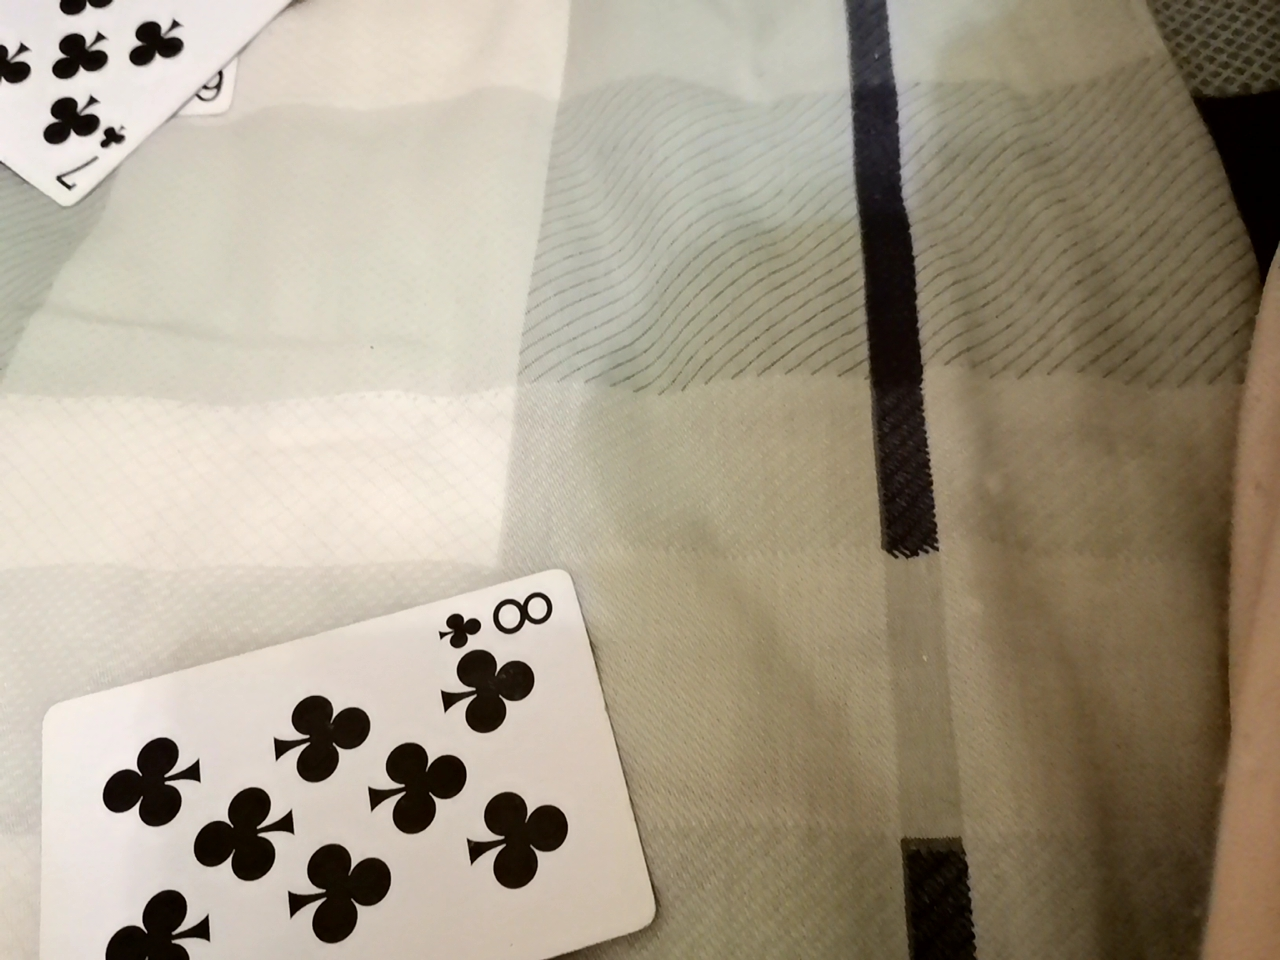mh 8: (7, 559, 643, 955)
